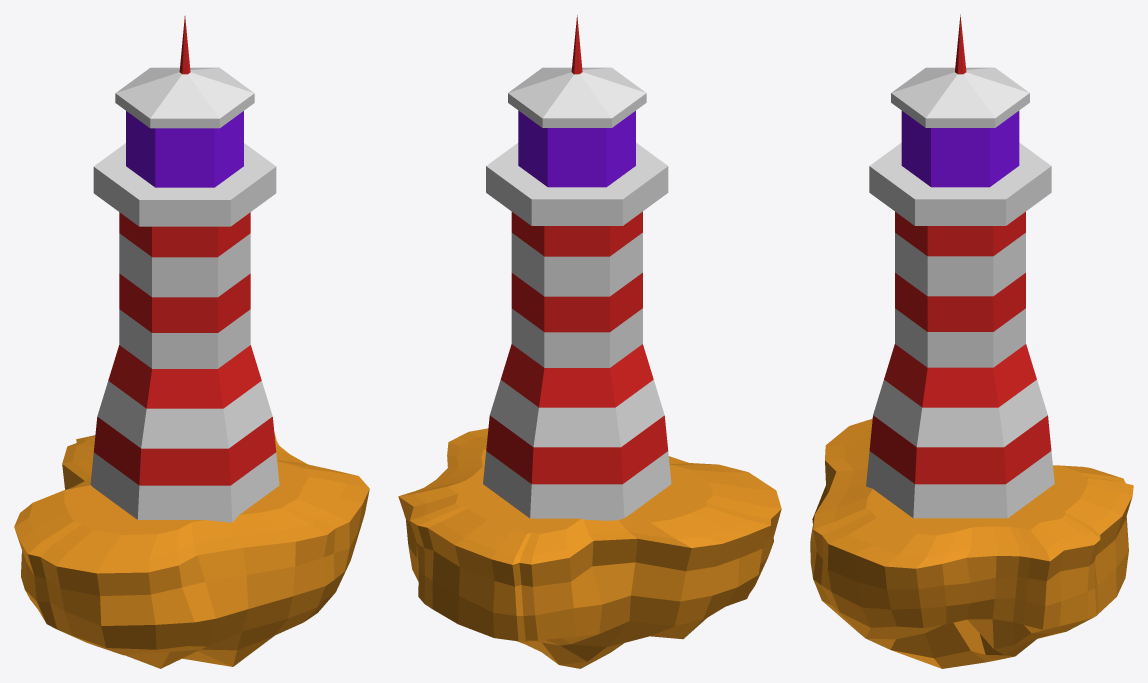
Rendered from SM_LightHouse.fbx.
3 renders of one model, left to right at view 1: azimuth 30°, elevation 25°; view 2: azimuth 150°, elevation 25°; view 3: azimuth 270°, elevation 25°, orthographic.
Visible parts, largest first — view 1: Plane.038, Cylinder.020, Cylinder.017, Cylinder.019, Cylinder.018; view 2: Plane.038, Cylinder.020, Cylinder.017, Cylinder.019, Cylinder.018; view 3: Plane.038, Cylinder.020, Cylinder.017, Cylinder.019, Cylinder.018.
Part boxes in pixels (x1,y1,x2,y2): Plane.038: [14, 432, 369, 668]; Cylinder.020: [90, 212, 279, 522]; Cylinder.017: [93, 143, 276, 226]; Cylinder.019: [115, 15, 254, 128]; Cylinder.018: [126, 111, 243, 187]; Plane.038: [398, 428, 781, 668]; Cylinder.020: [483, 211, 671, 520]; Cylinder.017: [486, 142, 668, 225]; Cylinder.019: [508, 15, 646, 127]; Cylinder.018: [518, 110, 635, 187]; Plane.038: [810, 418, 1133, 668]; Cylinder.020: [866, 211, 1054, 518]; Cylinder.017: [869, 142, 1051, 225]; Cylinder.019: [891, 14, 1029, 127]; Cylinder.018: [901, 111, 1019, 187].
Size of the model in its own units: 1072 by 2026 by 921.
